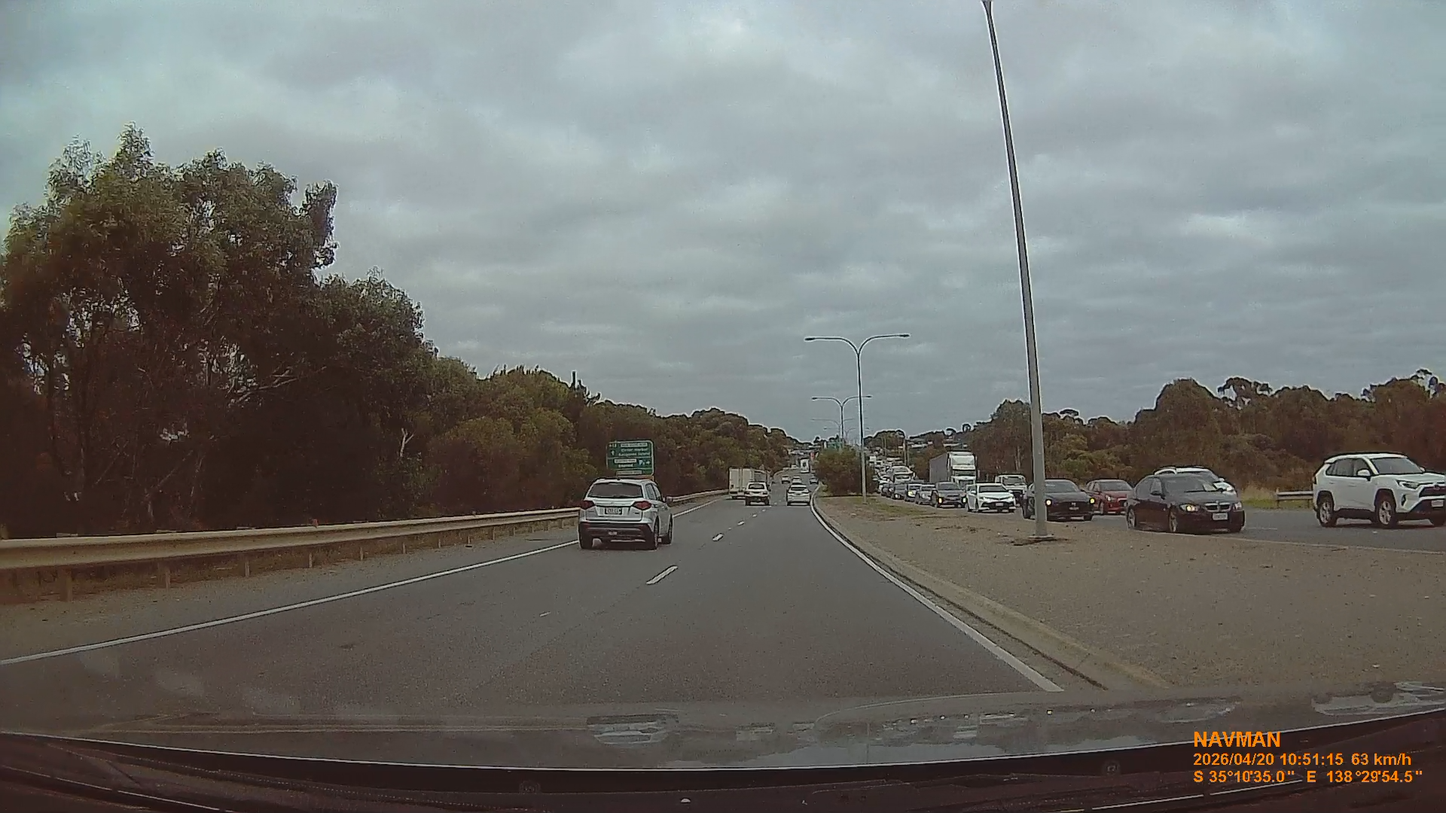road barriers: (0, 508, 576, 606)
